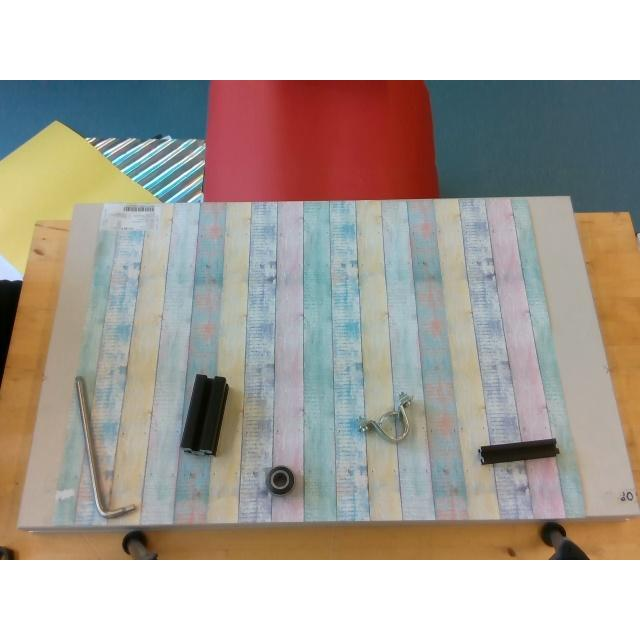AllenKey: (74, 376, 138, 518)
Bearing2: (266, 466, 294, 494)
F20_20_B: (478, 440, 558, 464)
Housing: (360, 392, 412, 442)
S40_40_B: (180, 374, 228, 454)
